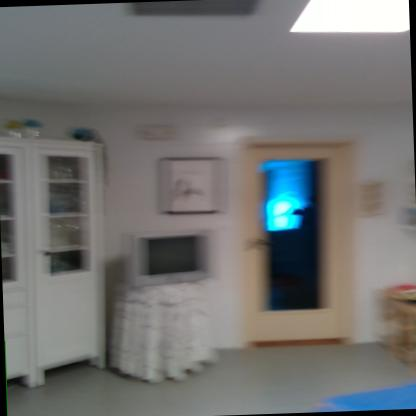closed: (238, 131, 363, 346)
